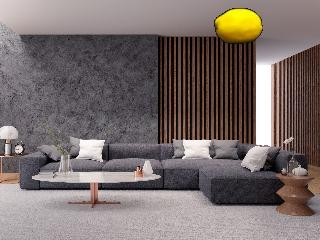lemon: (214, 8, 261, 44)
